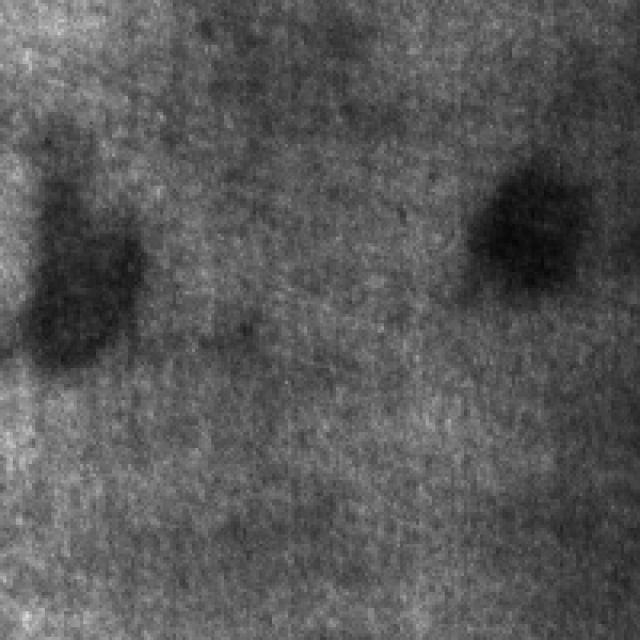patches: (28, 157, 154, 368), (474, 150, 604, 288)
